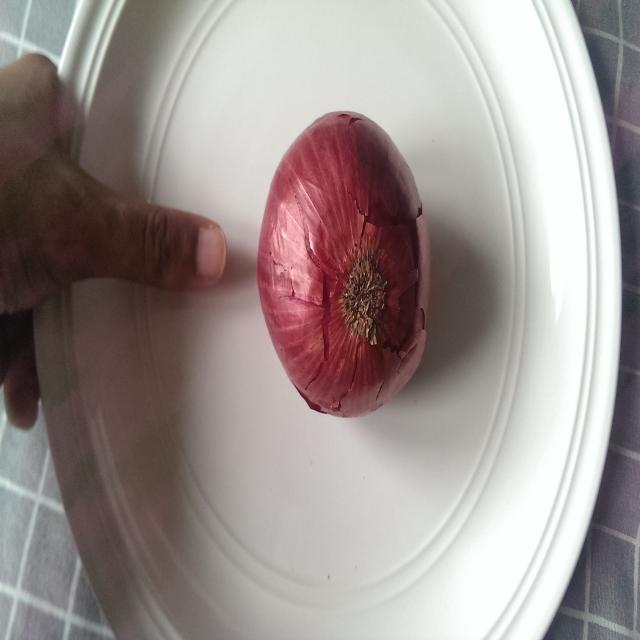onion: (256, 109, 431, 419)
